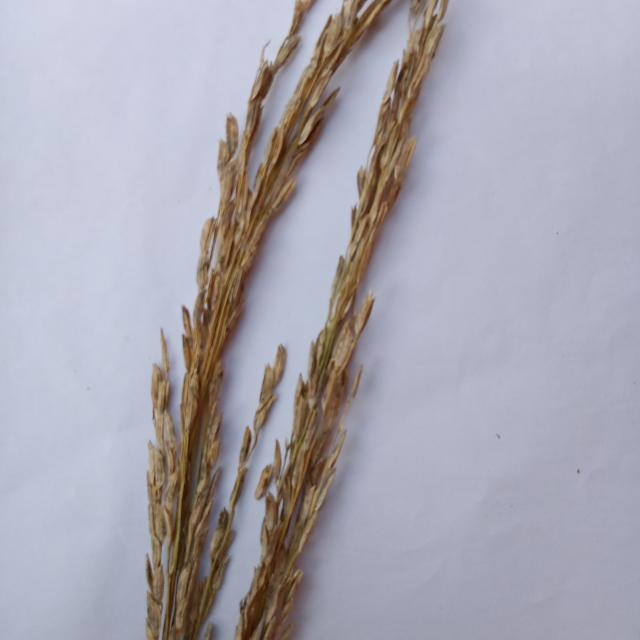Neck_Blast: (144, 0, 396, 639), (229, 0, 454, 640)
